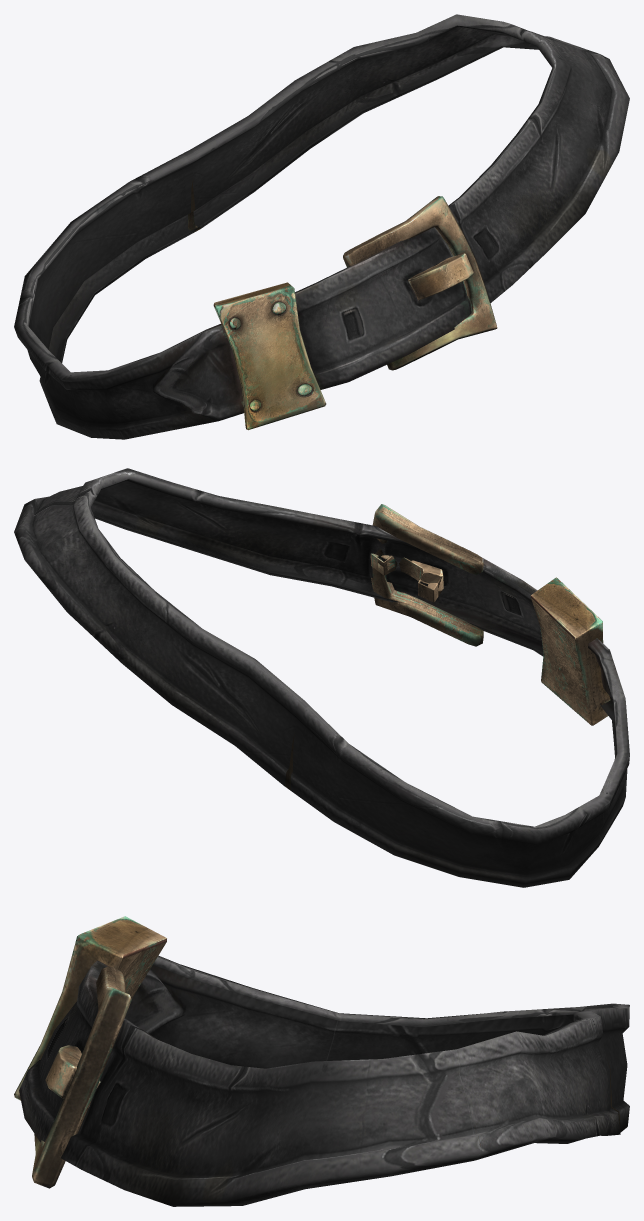
Rendered from sm_yun_heodedna_chest_add.gltf.
The picture shows the model from 3 angles, top to bottom: view 1: azimuth 30°, elevation 25°; view 2: azimuth 150°, elevation 25°; view 3: azimuth 270°, elevation 25°; orthographic projection. The views are drawn at different scales.
Parts seen in each view (by area): view 1: sm_yun_heodedna_chest_add; view 2: sm_yun_heodedna_chest_add; view 3: sm_yun_heodedna_chest_add.
Part boxes in pixels (<box>): sm_yun_heodedna_chest_add: <box>14,14,629,439</box>; sm_yun_heodedna_chest_add: <box>14,468,629,887</box>; sm_yun_heodedna_chest_add: <box>14,916,629,1206</box>.
Size of the model in its own units: 100 by 46.77 by 64.47.
1 material, 1 textured.
